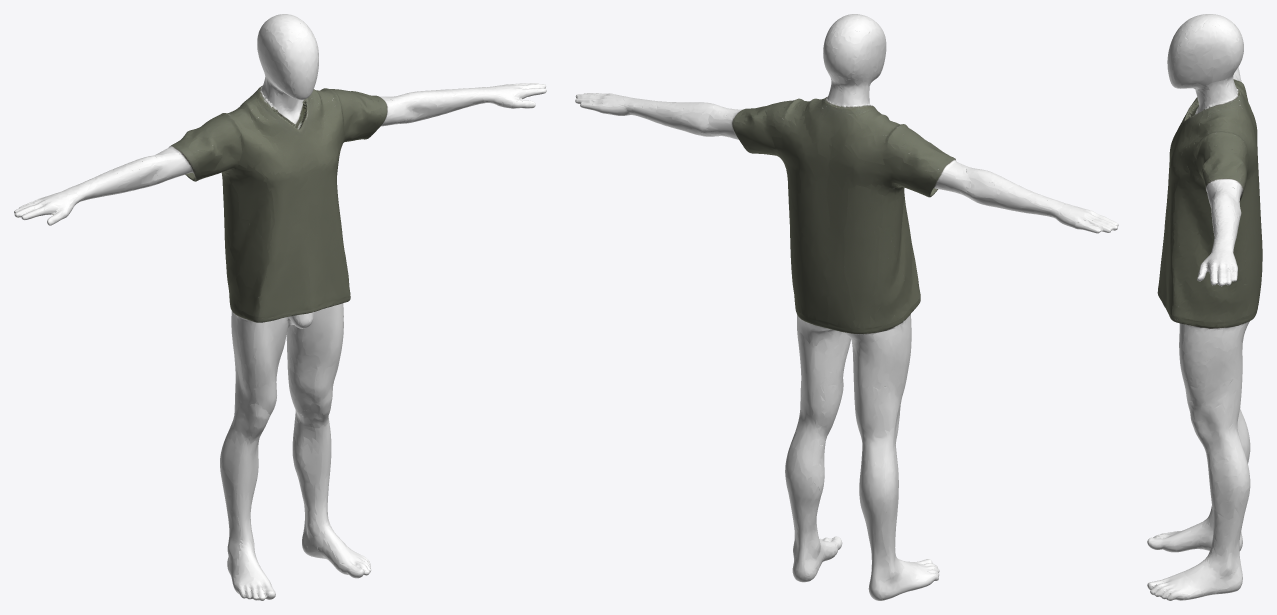
Rendered from bf59bade-555e-41db-ae0f-11aa2adb8b8f-meshy.glb.
3 renders of one model, left to right at view 1: azimuth 30°, elevation 25°; view 2: azimuth 150°, elevation 25°; view 3: azimuth 270°, elevation 25°, orthographic. The views are drawn at different scales.
Bounding box in the file's own units: 1.9 × 1.89 × 0.3556.
1 material, 1 textured.
